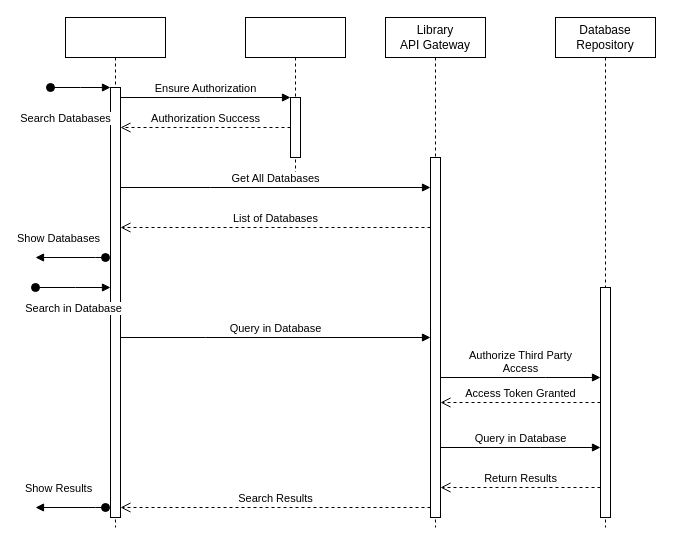
Image size: 673x545. Some labels were removed from this diagram. The shapes that lost their labels are listed below. From the top down, each one's box as (x1, y1, x2, y2) in pixels, then its label:
(244, 16, 346, 178): Authentication
(64, 16, 166, 528): Front-End
